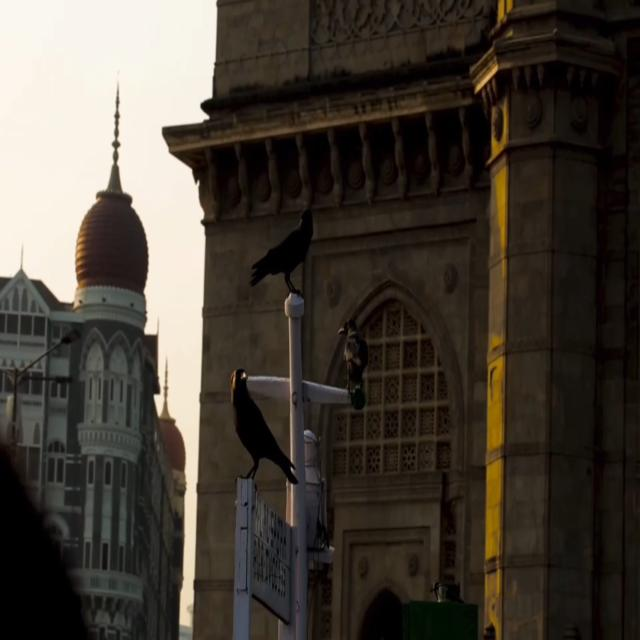bird: (219, 347, 301, 538), (242, 197, 331, 300), (336, 306, 372, 406)
